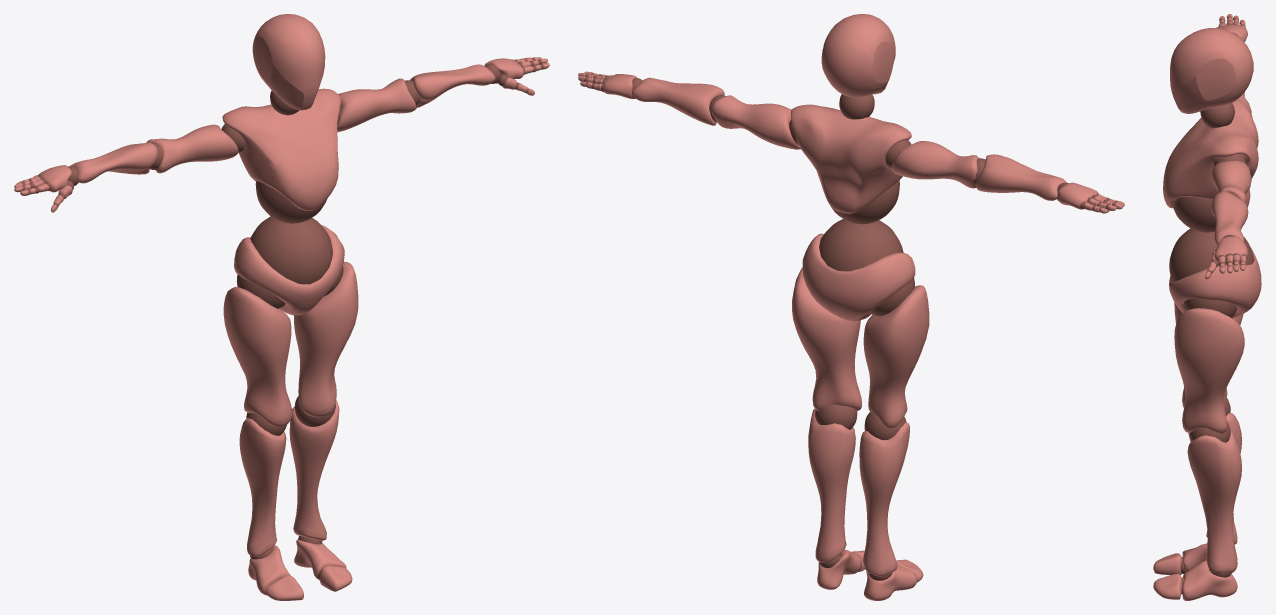
Rendered from Robotx.glb.
The picture shows the model from 3 angles, left to right: view 1: azimuth 30°, elevation 25°; view 2: azimuth 150°, elevation 25°; view 3: azimuth 270°, elevation 25°; orthographic projection. The views are drawn at different scales.
Parts seen in each view (by area): view 1: Beta_Surface, Beta_Joints; view 2: Beta_Surface, Beta_Joints; view 3: Beta_Surface, Beta_Joints.
Boxes of the visible parts, left/top/right/bottom form: Beta_Surface: left=14, top=14, right=549, bottom=600; Beta_Joints: left=21, top=57, right=543, bottom=579; Beta_Surface: left=578, top=14, right=1124, bottom=600; Beta_Joints: left=584, top=72, right=1117, bottom=580; Beta_Surface: left=1153, top=14, right=1261, bottom=600; Beta_Joints: left=1169, top=16, right=1254, bottom=594.
Bounding box in the file's own units: 1.81 × 1.81 × 0.3207.
